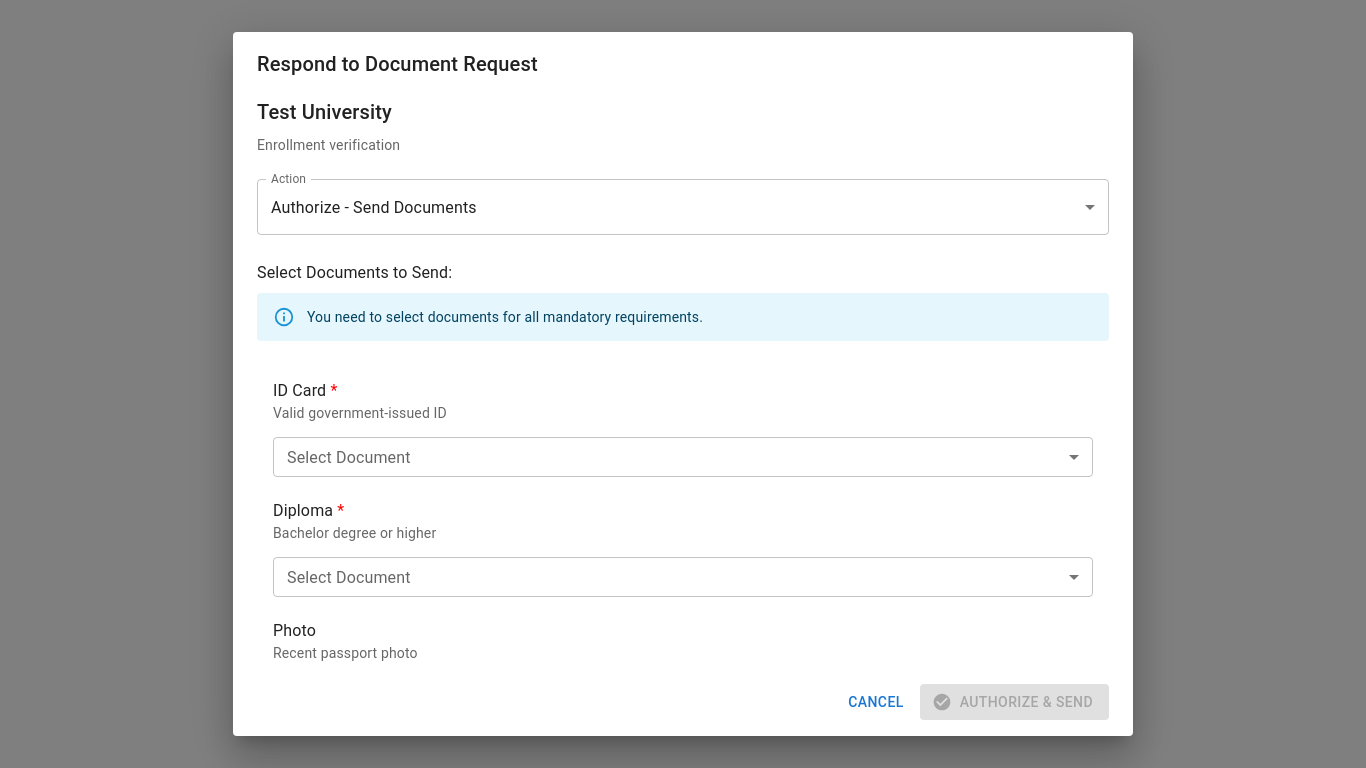
RespondRequestDialog › Reject action › should display rejection reason field when REJECT is selected
Expected: the heading "Test University" is shown, 257,100 -> 392,124
Click the dropdown named "action": point(374, 207) 271,198 -> 477,216
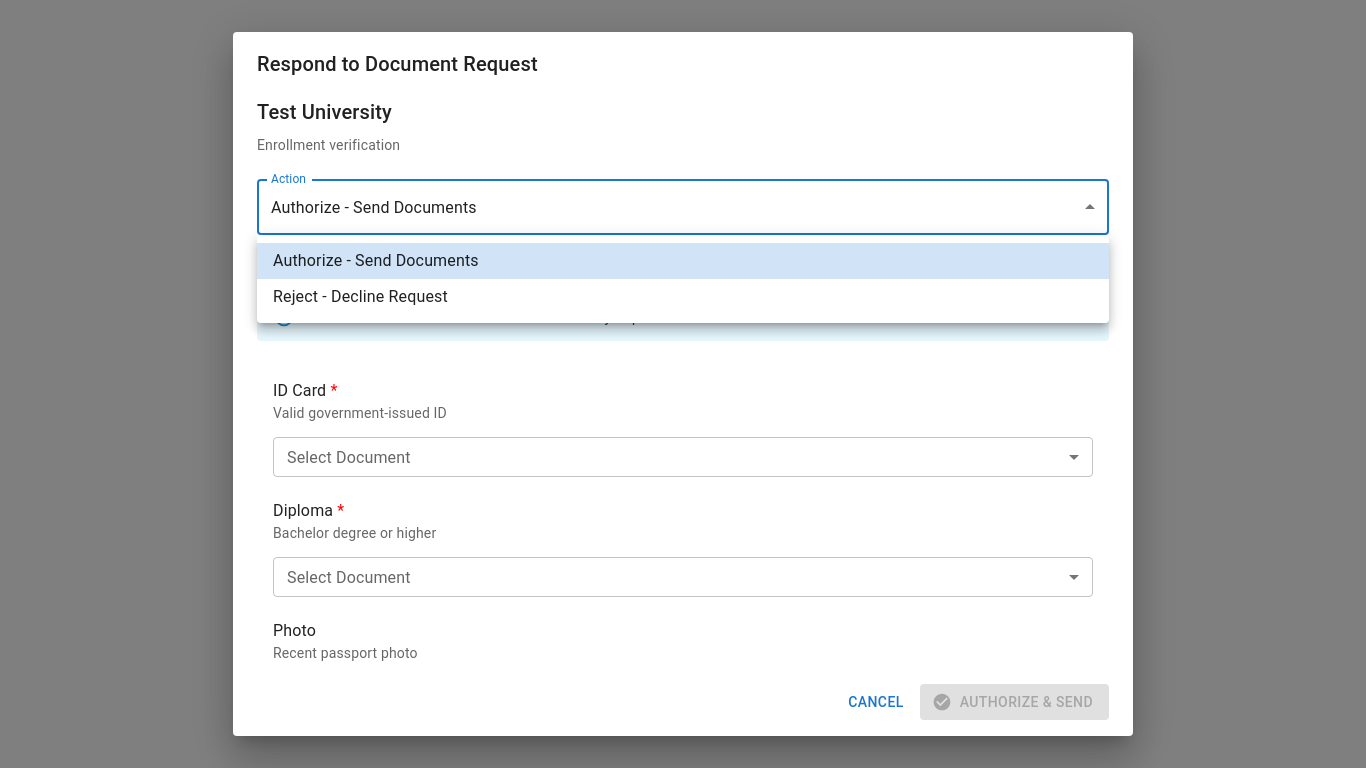
Click the option "Reject - Decline Request": point(360, 296) 273,287 -> 448,306
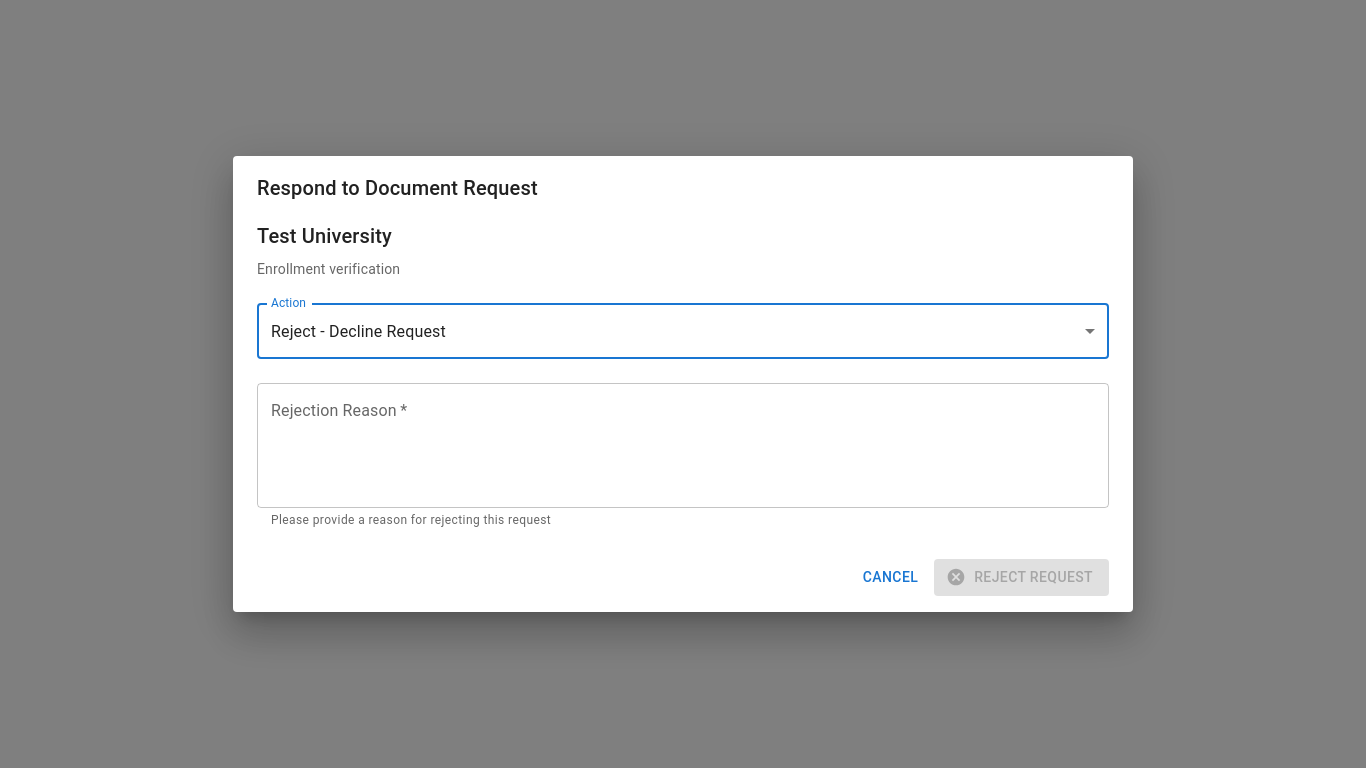
Now the text box labelled "Rejection Reason *" is shown, box 271,400 -> 1095,492
Now the text "Please provide a reason for rejecting this request" is shown, box 271,513 -> 551,527
